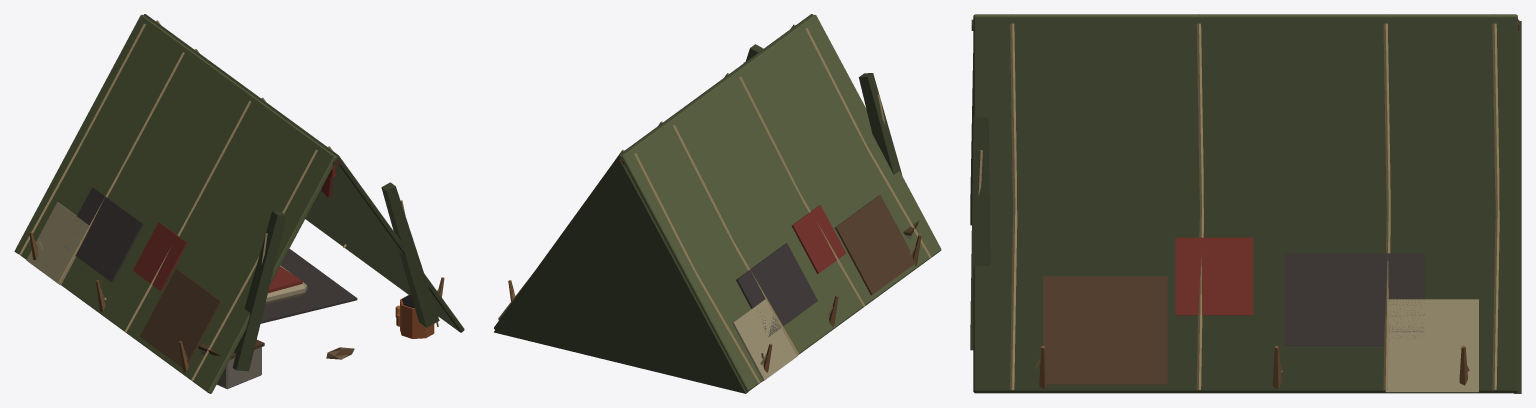
File: camp_tent.fbx
3 renders of one model, left to right at view 1: azimuth 30°, elevation 25°; view 2: azimuth 150°, elevation 25°; view 3: azimuth 270°, elevation 25°, orthographic. The views are drawn at different scales.
Parts seen in each view (by area): view 1: camp_tent; view 2: camp_tent; view 3: camp_tent.
Part boxes in pixels (left/top/right/bottom): camp_tent: left=14, top=14, right=464, bottom=393; camp_tent: left=494, top=14, right=941, bottom=393; camp_tent: left=970, top=14, right=1521, bottom=393.
Size of the model in its own units: 2.76 by 2.08 by 3.55.
